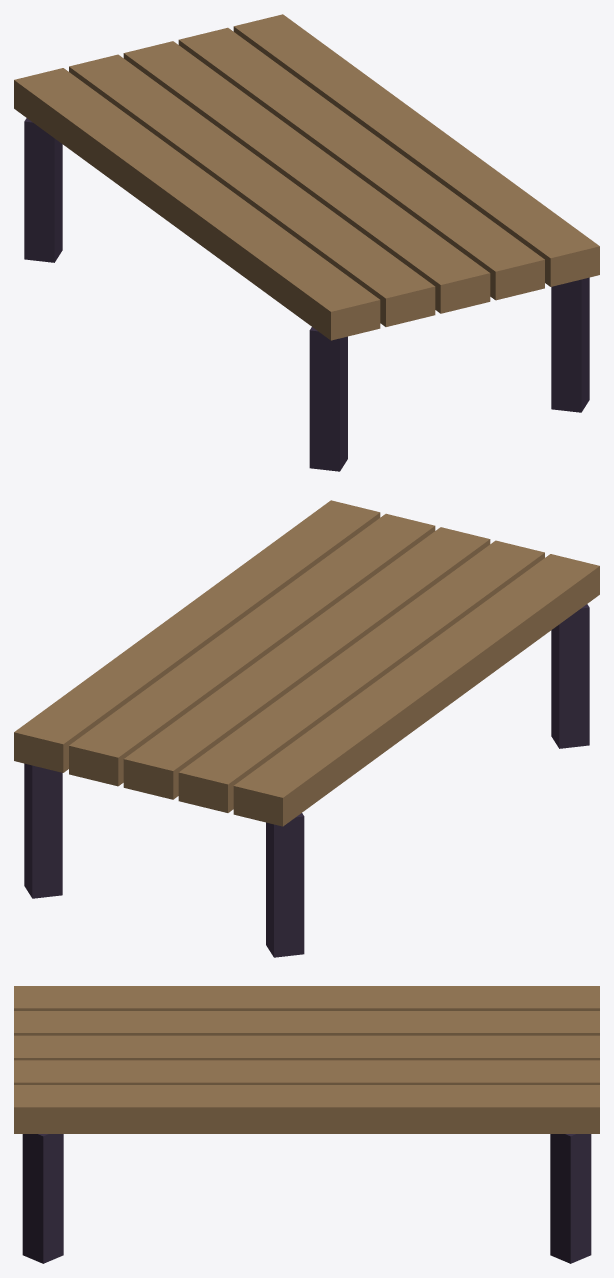
File: dock-plank.glb
3 renders of one model, top to bottom at view 1: azimuth 30°, elevation 25°; view 2: azimuth 150°, elevation 25°; view 3: azimuth 270°, elevation 25°, orthographic. The views are drawn at different scales.
Visible parts, largest first — view 1: ice-dock-plank; view 2: ice-dock-plank; view 3: ice-dock-plank.
Part boxes in pixels (bbox=[...]): ice-dock-plank: bbox=[14, 14, 599, 471]; ice-dock-plank: bbox=[14, 500, 599, 957]; ice-dock-plank: bbox=[14, 986, 599, 1263].
Size of the model in its own units: 0.51 by 0.29 by 1.
